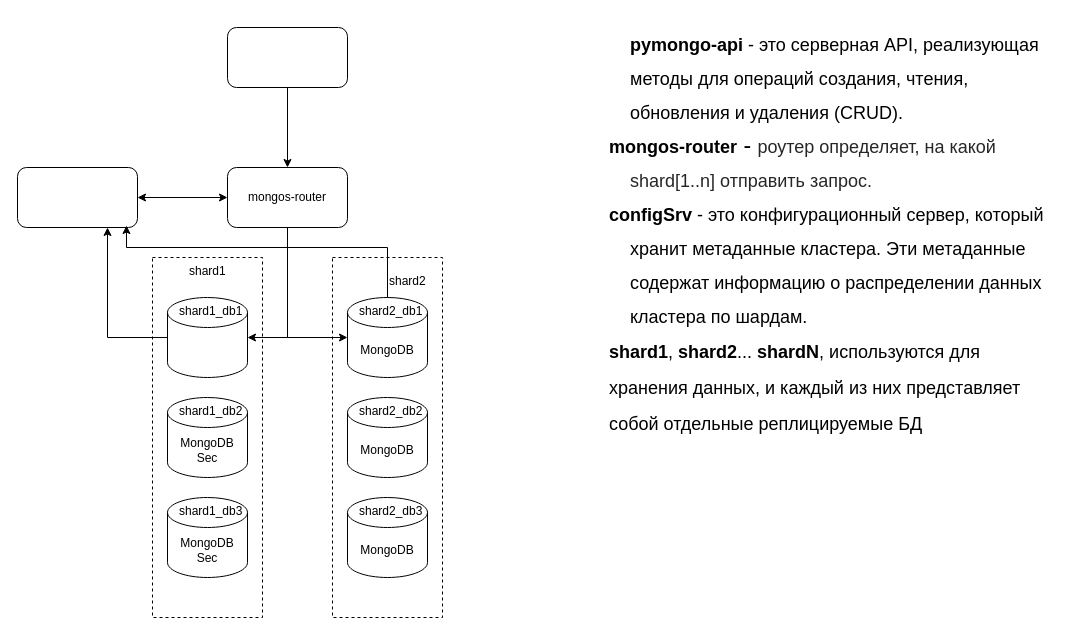
The diagram is 1075 pixels wide and 635 high, and some of its shapes have lost their labels. The shapes that lost their labels are listed below. From the top down, each one's box as (x1, y1, x2, y2) in pixels, then its label:
(226, 26, 348, 88): pymongo-api
(16, 166, 138, 228): configSrv
(166, 296, 248, 378): MongoDB primary
